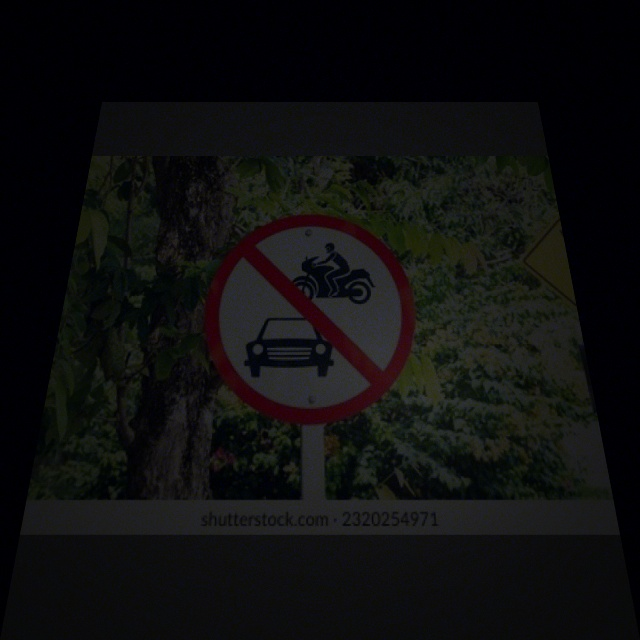All_Motor_Vehicles_Prohibited: (199, 216, 416, 417)
